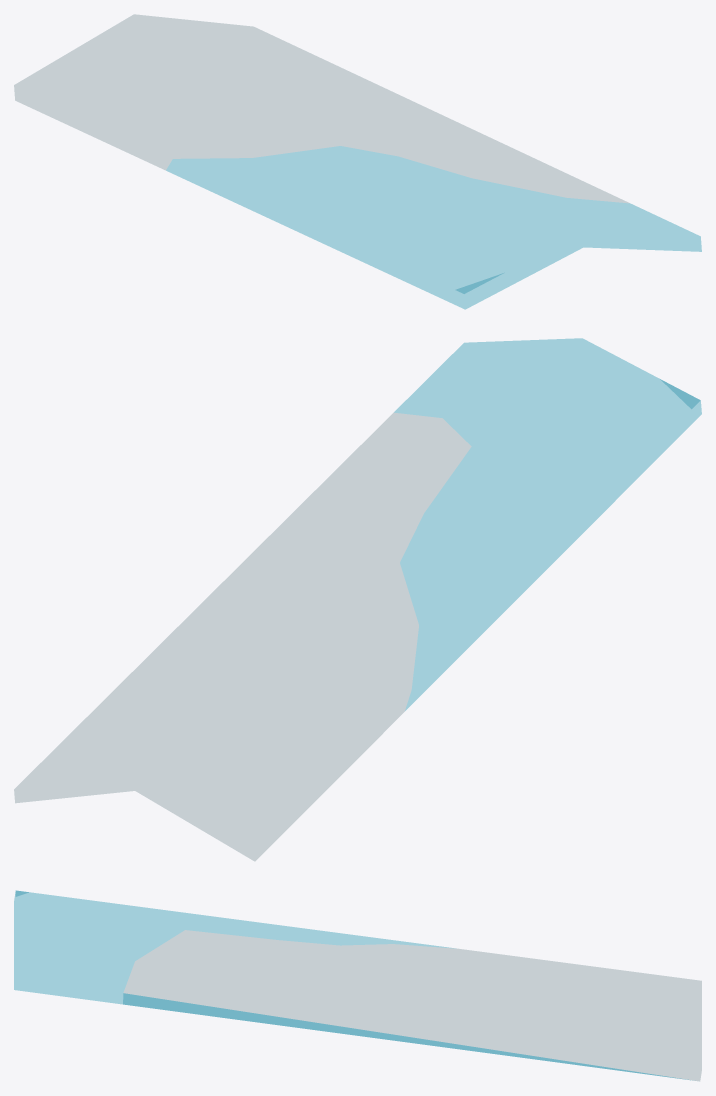
The model's file is su33_surf_speedbrake.gltf.
The picture shows the model from 3 angles, top to bottom: view 1: azimuth 30°, elevation 25°; view 2: azimuth 150°, elevation 25°; view 3: azimuth 270°, elevation 25°; orthographic projection. The views are drawn at different scales.
Parts seen in each view (by area): view 1: 0_2_#bacdd8, 0_1_#73cdec; view 2: 0_2_#bacdd8, 0_1_#73cdec; view 3: 0_2_#bacdd8, 0_1_#73cdec, 0_0_#3396bb.
Part boxes in pixels (box(x1,y1,x2,y2)): 0_2_#bacdd8: box(14, 14, 629, 203); 0_1_#73cdec: box(166, 146, 701, 309); 0_2_#bacdd8: box(14, 412, 471, 861); 0_1_#73cdec: box(394, 338, 701, 710); 0_2_#bacdd8: box(123, 930, 701, 1081); 0_1_#73cdec: box(14, 892, 456, 1004); 0_0_#3396bb: box(15, 890, 692, 1080).
Size of the model in its own units: 0.8461 by 0.5626 by 2.75.
